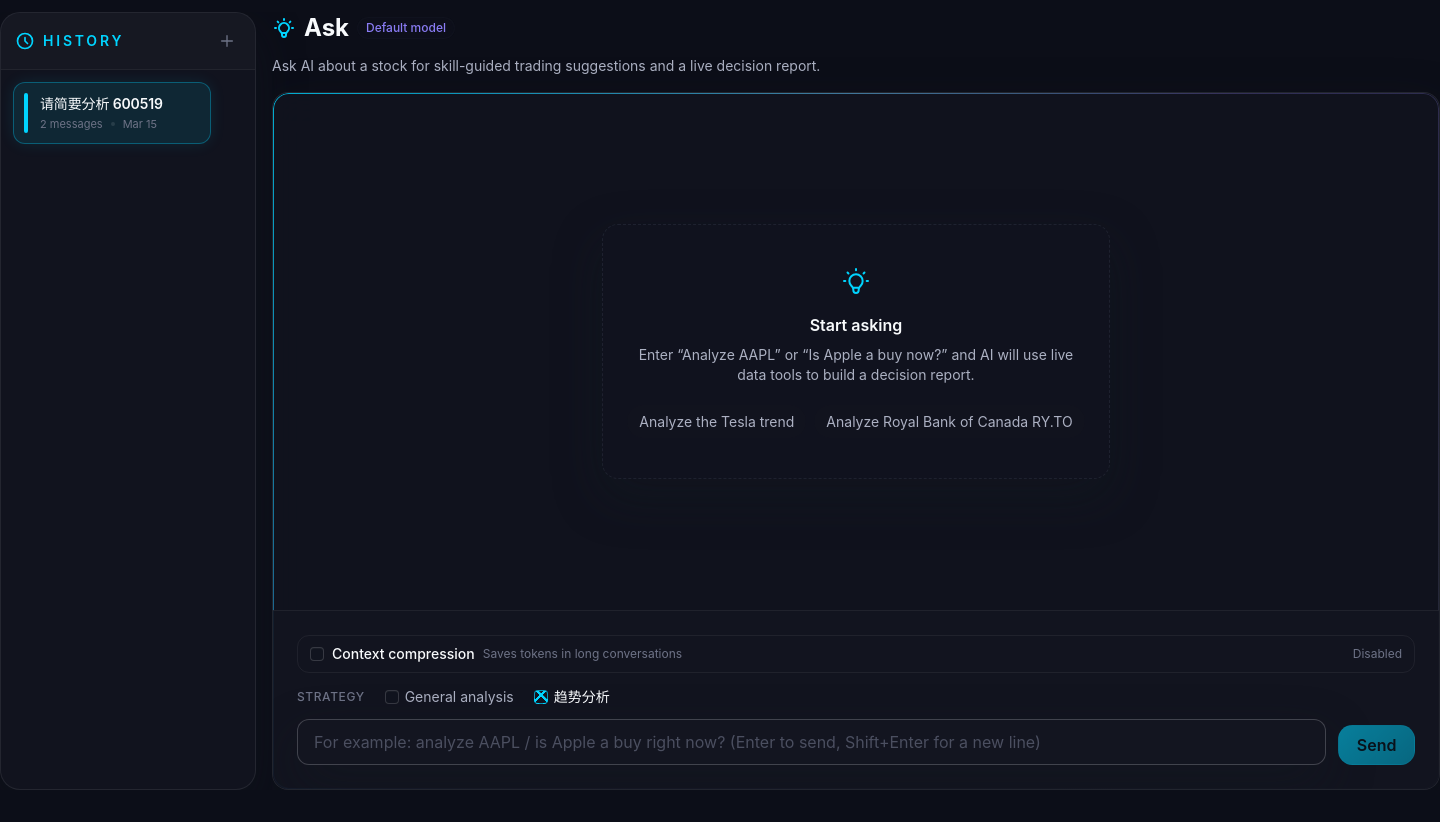
Test: ChatPage › keeps the watchlist action for a bare stock code that shares digits with an index
The width and height of the screenshot is (1440, 822).
Replace the text in the text box with placeholder "analyze AAPL" with "Analyze 000001" at (812, 742), box top-left (297, 719), bottom-right (1326, 765)
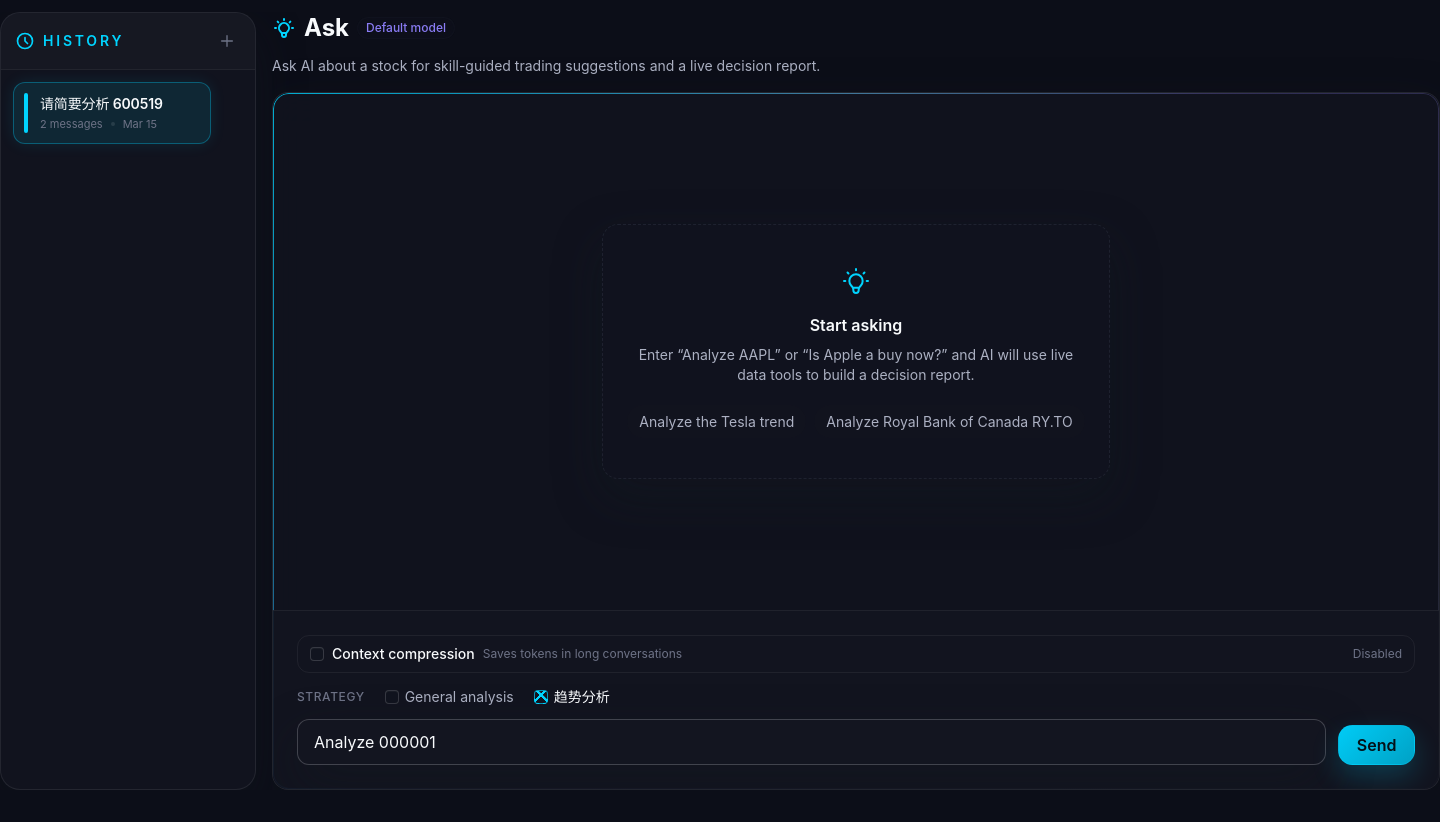
Press Enter in the text box with placeholder "analyze AAPL", box top-left (297, 719), bottom-right (1326, 765)
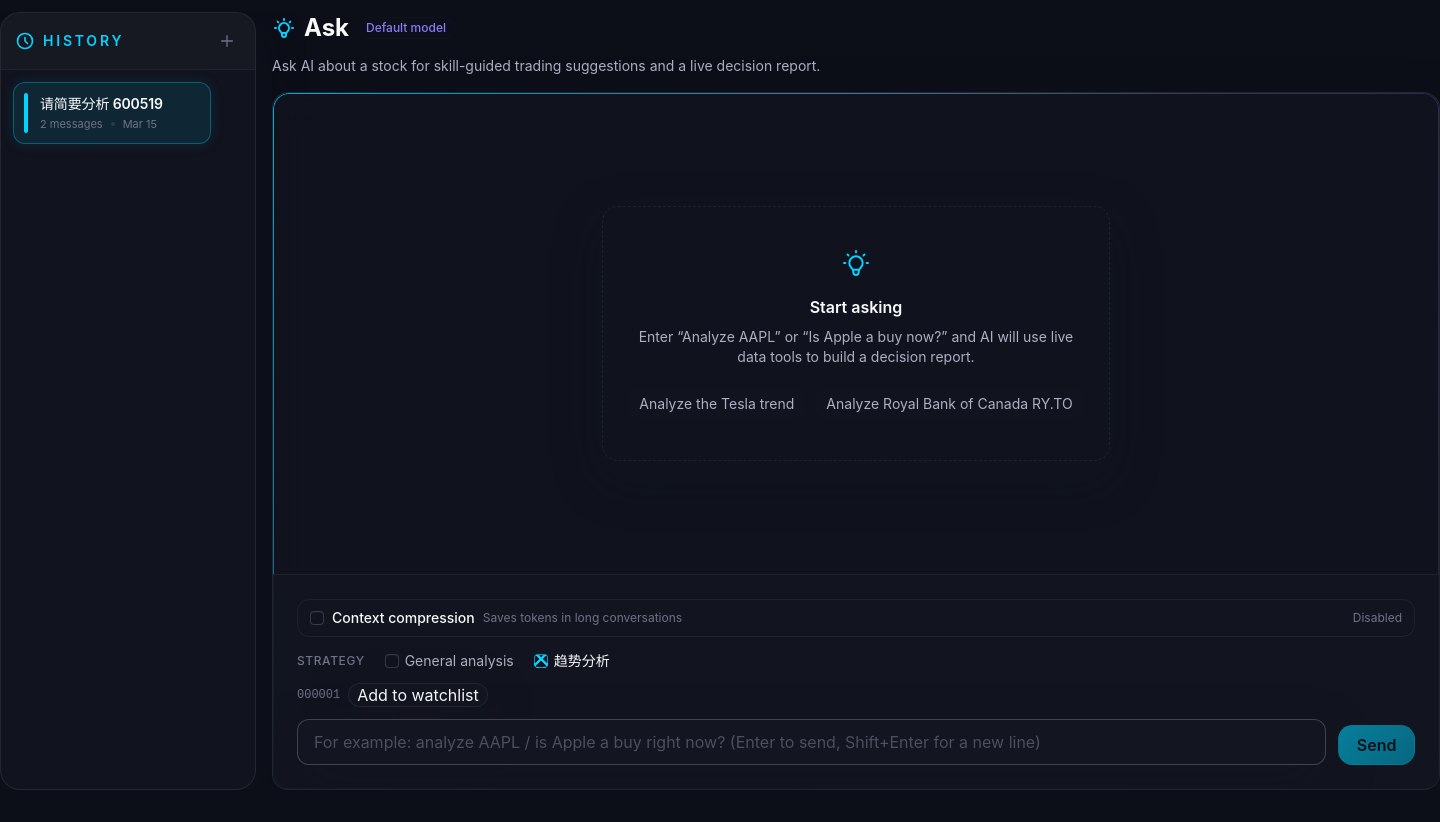
Expected: the button "Add to watchlist" is shown, top-left (348, 683), bottom-right (488, 707)
